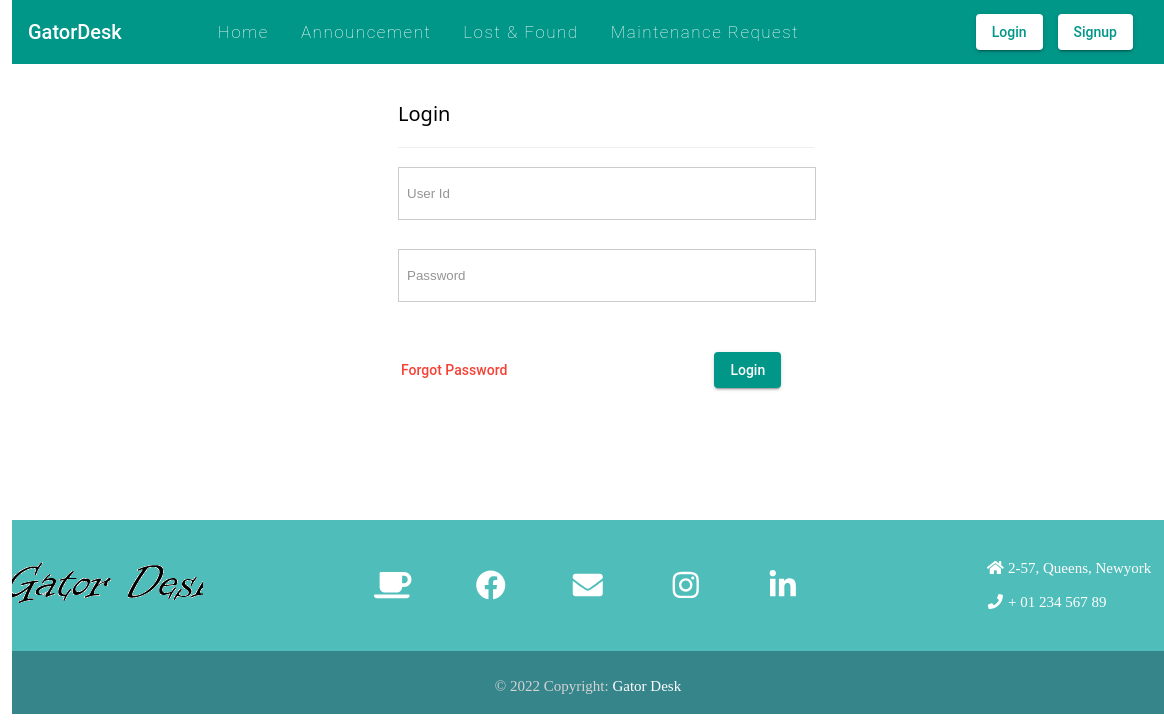
Test case: loads examples
Type "user2" into the field with id "email". click: (607, 194)
box: [398,167,816,220]
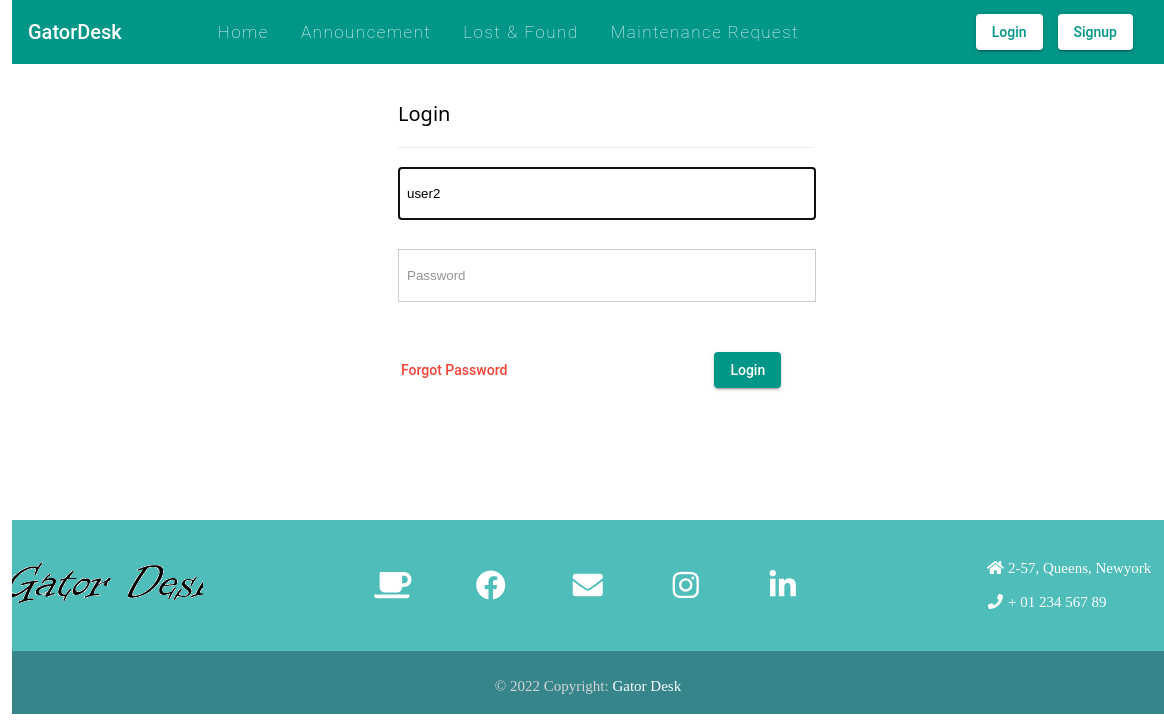
Type "user2" into the password field with placeholder "Password". click: (607, 276)
box: [398,249,816,302]
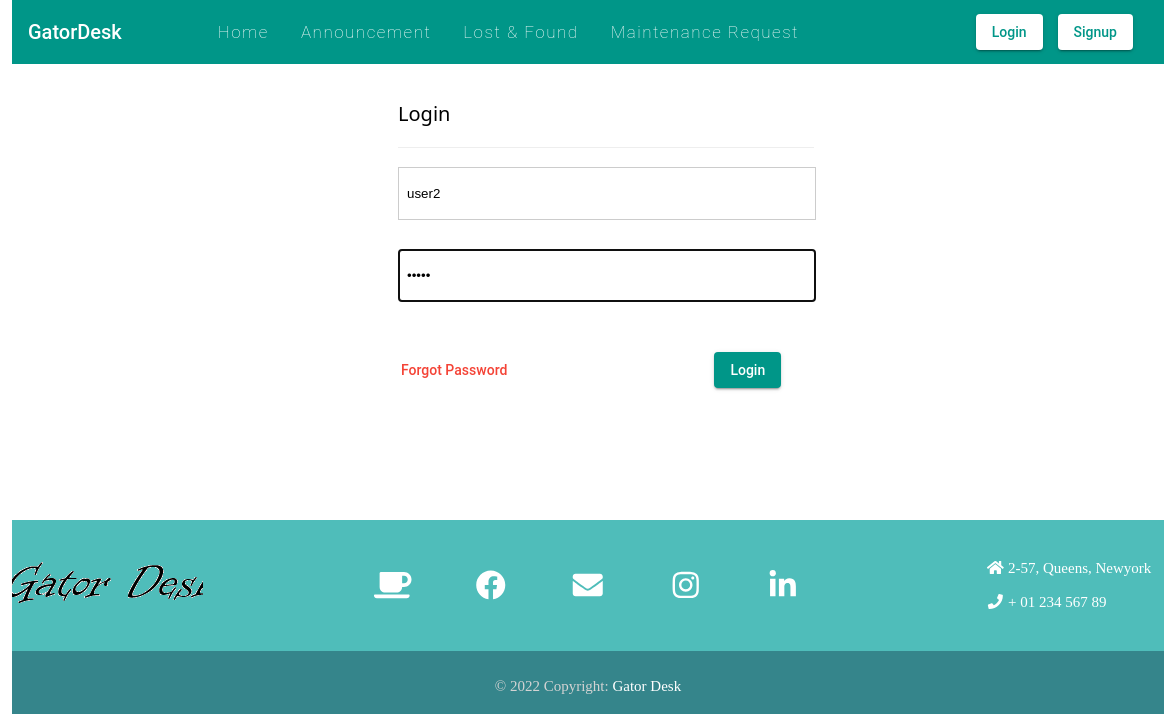
Click the button with id "loginid". click: (748, 370)
box: [714,352,781,388]
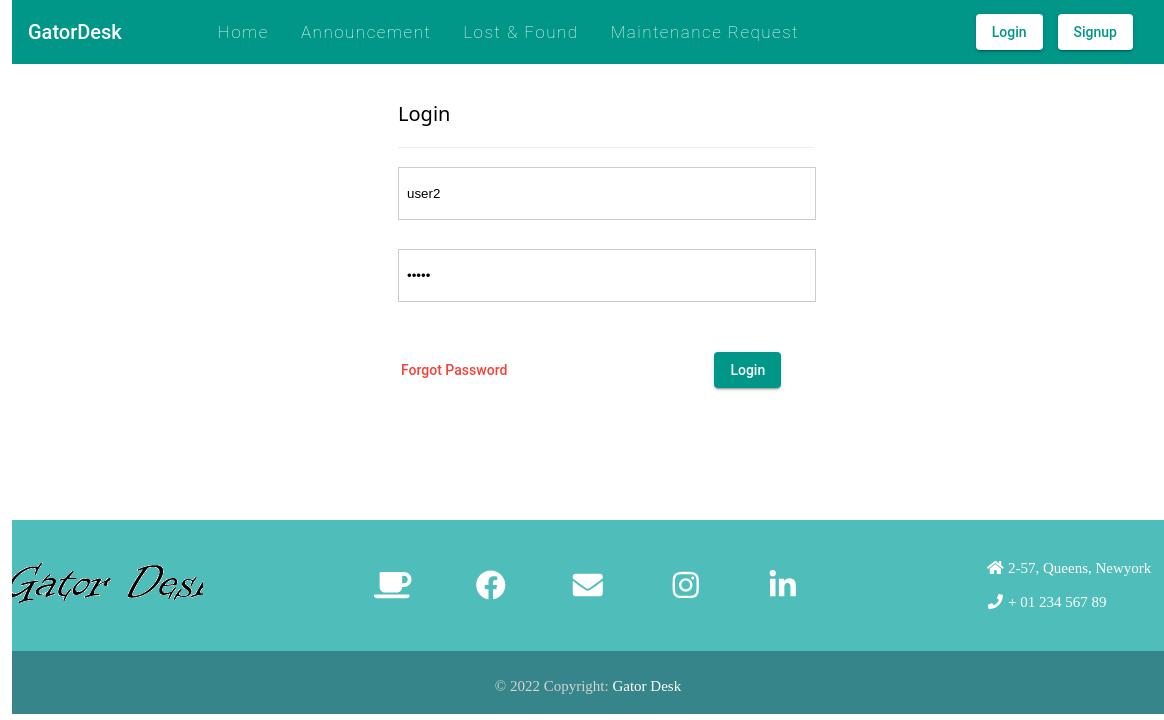
Open "/"
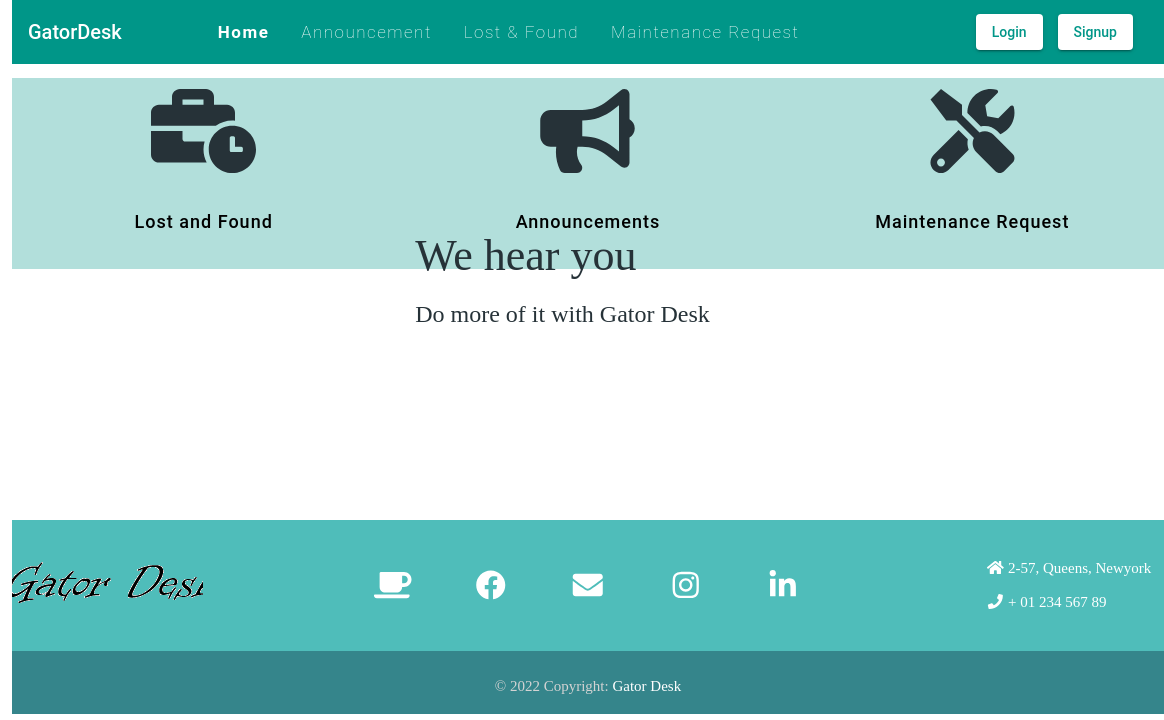
Expected: the text " We hear you " is shown, [415,231,636,280]
Expected: the text " Do more of it with Gator Desk " is shown, [415,301,710,327]
